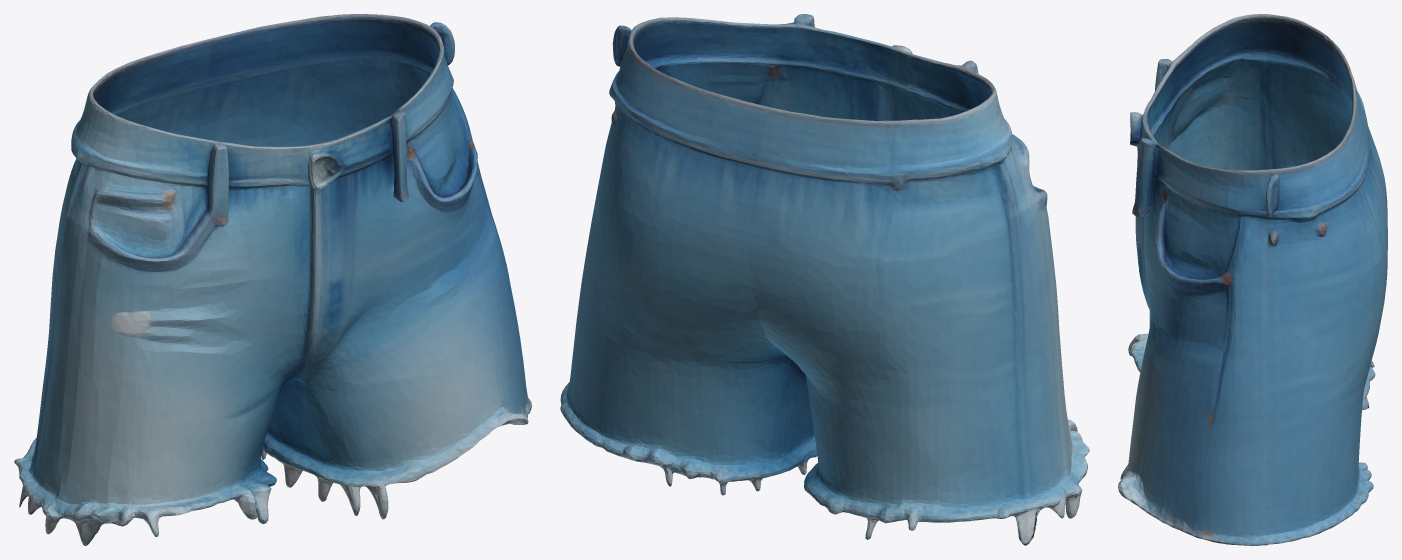
Rendered from WShorts1.glb.
3 renders of one model, left to right at view 1: azimuth 30°, elevation 25°; view 2: azimuth 150°, elevation 25°; view 3: azimuth 270°, elevation 25°, orthographic. The views are drawn at different scales.
Parts seen in each view (by area): view 1: world; view 2: world; view 3: world.
Boxes of the visible parts, x1,y1,x2,y2 form: world: (14,14,531,545); world: (560,14,1089,545); world: (1118,14,1387,545).
Bounding box in the file's own units: 0.9977 × 0.8218 × 0.5231.
1 material, 1 textured.
